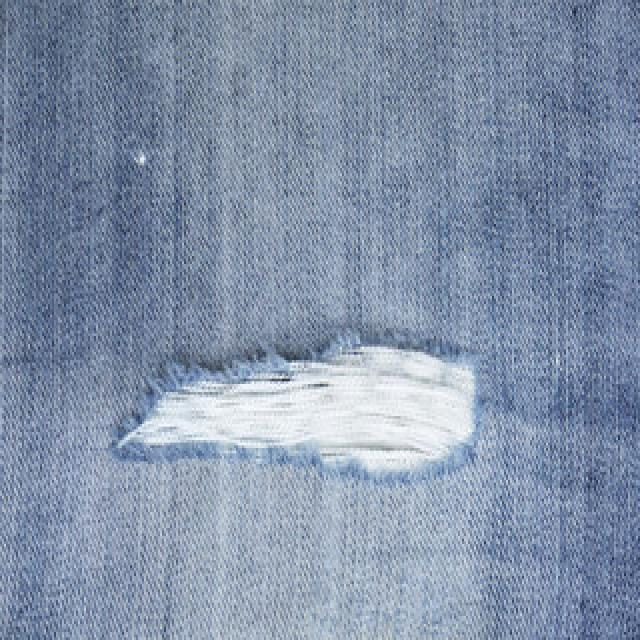Hole: (111, 334, 480, 482)
